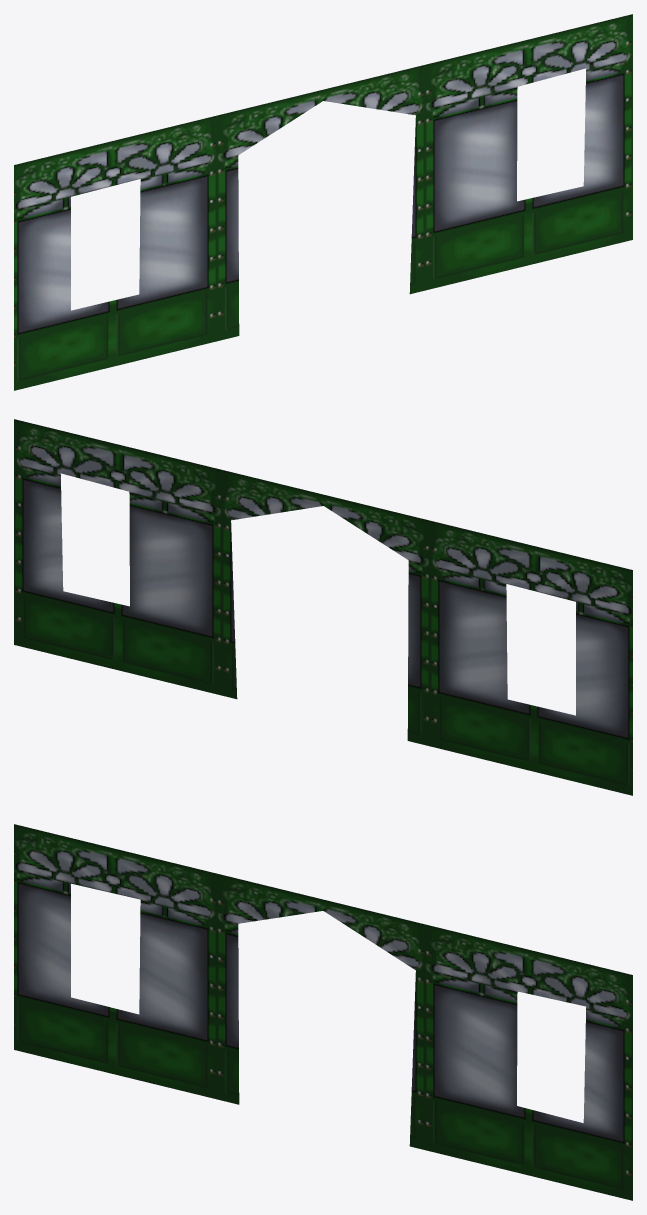
The model's file is W_AI3_fOf [GrünesMetall]_313.glb.
3 renders of one model, top to bottom at view 1: azimuth 30°, elevation 25°; view 2: azimuth 150°, elevation 25°; view 3: azimuth 330°, elevation 25°, orthographic.
Parts seen in each view (by area): view 1: polySurfaceShape771; view 2: polySurfaceShape771; view 3: polySurfaceShape771.
Part boxes in pixels (left/top/right/bottom): polySurfaceShape771: left=14, top=14, right=632, bottom=390; polySurfaceShape771: left=14, top=419, right=632, bottom=795; polySurfaceShape771: left=14, top=824, right=632, bottom=1200.
Bounding box in the file's own units: 1 × 0.3486 × 1.52e-08.
1 material, 1 textured.
